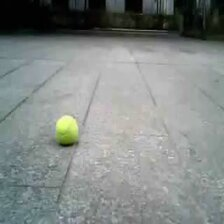tennis: (57, 116, 78, 143)
